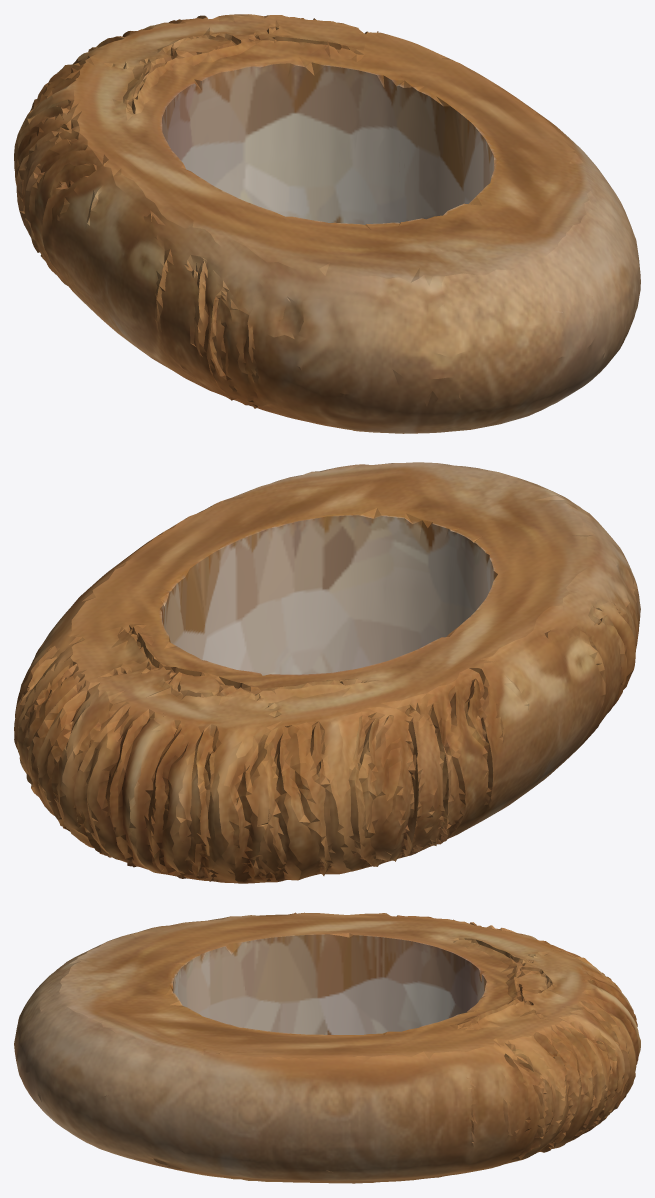
Rendered from valkyrie_tail.glb.
The picture shows the model from 3 angles, top to bottom: view 1: azimuth 30°, elevation 25°; view 2: azimuth 150°, elevation 25°; view 3: azimuth 270°, elevation 25°; orthographic projection. The views are drawn at different scales.
Parts seen in each view (by area): view 1: valkyrie_tail; view 2: valkyrie_tail; view 3: valkyrie_tail.
Part boxes in pixels (x1,y1,x2,y2): valkyrie_tail: (14, 14, 640, 433); valkyrie_tail: (14, 462, 640, 883); valkyrie_tail: (14, 912, 640, 1183).
Size of the model in its own units: 1.25 by 0.4604 by 1.89.
1 material, 1 textured.
